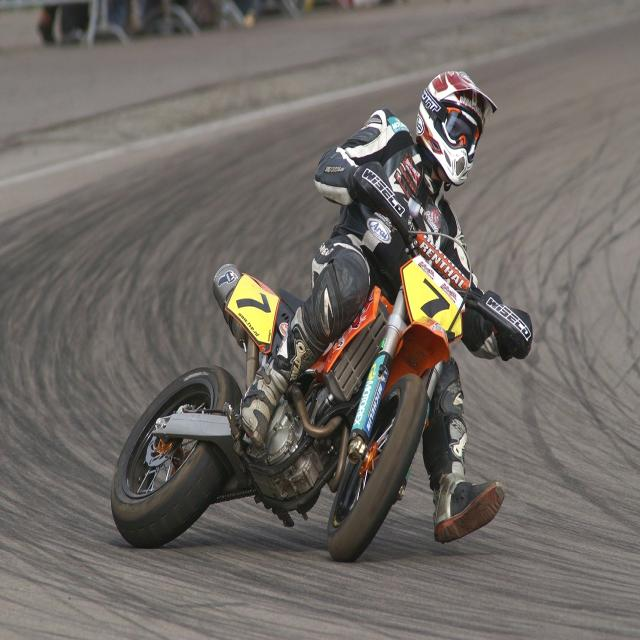MOTORCYCLE: (110, 231, 448, 574)
